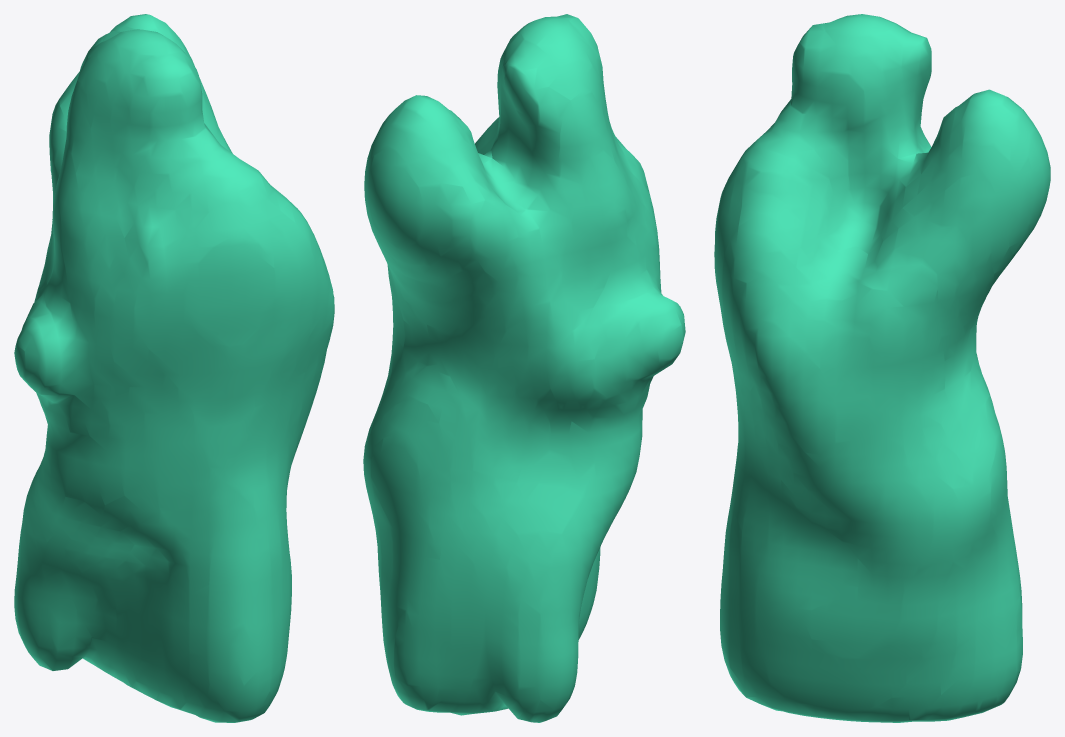
The picture shows the model from 3 angles, left to right: view 1: azimuth 30°, elevation 25°; view 2: azimuth 150°, elevation 25°; view 3: azimuth 270°, elevation 25°; orthographic projection.
Parts seen in each view (by area): view 1: Liquid_Domain; view 2: Liquid_Domain; view 3: Liquid_Domain.
Boxes of the visible parts, x1,y1,x2,y2 form: Liquid_Domain: [14, 14, 334, 722]; Liquid_Domain: [363, 14, 685, 722]; Liquid_Domain: [714, 14, 1050, 722].
Bounding box in the file's own units: 2.85 × 6.43 × 2.96.
